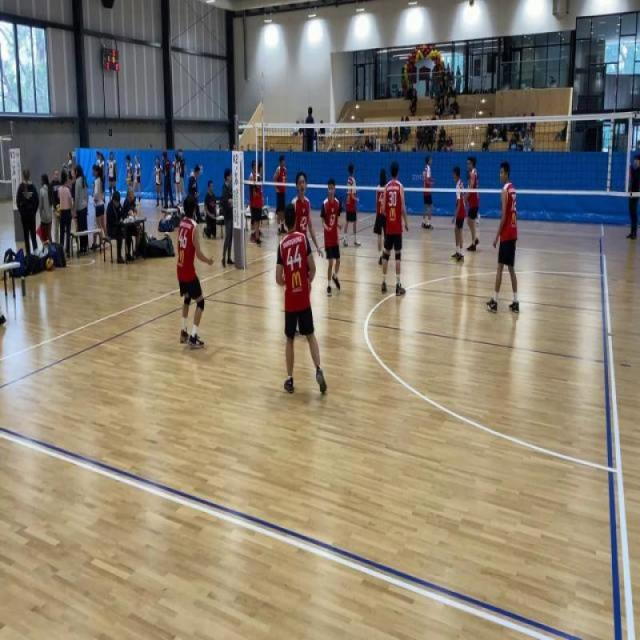volleyball: (46, 256, 54, 272), (148, 234, 154, 242), (56, 203, 60, 214), (163, 232, 170, 238), (125, 176, 130, 184), (469, 0, 474, 7)
